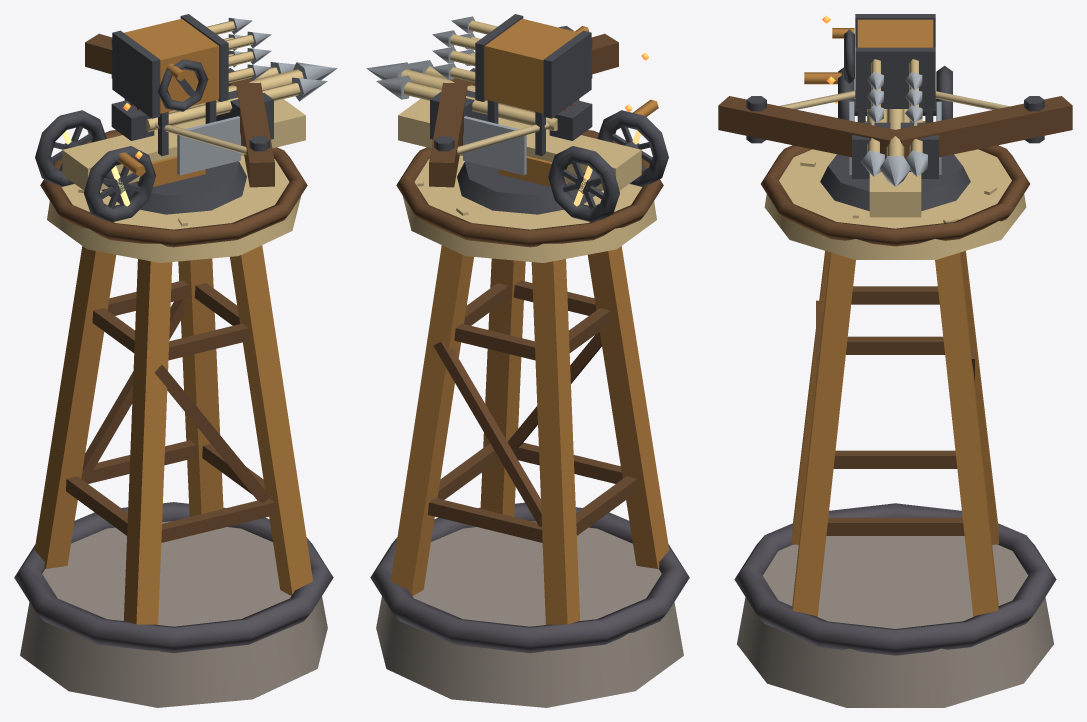
Rendered from tower_ballista_boltStorm.glb.
The picture shows the model from 3 angles, left to right: view 1: azimuth 30°, elevation 25°; view 2: azimuth 150°, elevation 25°; view 3: azimuth 270°, elevation 25°; orthographic projection.
Parts seen in each view (by area): view 1: base, leg_wn, base_rim, leg_en, leg_ws, deck, leg_es, deck_rim, magazine, stock, turret_ring, magazine_band_b (+23 smaller); view 2: base, leg_ws, base_rim, leg_es, leg_wn, deck, leg_en, deck_rim, magazine, stock, turret_ring, brace_b (+22 smaller); view 3: base, base_rim, deck, leg_en, leg_es, deck_rim, bow_arm_l, bow_arm_r, magazine_band_f, turret_ring, ring_e_0.21, ring_w_0.21 (+13 smaller).
Part boxes in pixels (left/top/right/bottom): base: left=20, top=521, right=327, bottom=707; leg_wn: left=123, top=259, right=172, bottom=624; base_rim: left=14, top=502, right=333, bottom=653; leg_en: left=230, top=245, right=312, bottom=595; leg_ws: left=34, top=246, right=116, bottom=568; deck: left=47, top=155, right=300, bottom=262; leg_es: left=178, top=258, right=223, bottom=516; deck_rim: left=40, top=130, right=307, bottom=247; magazine: left=124, top=18, right=219, bottom=113; stock: left=62, top=99, right=305, bottom=190; turret_ring: left=101, top=161, right=246, bottom=214; magazine_band_b: left=112, top=30, right=160, bottom=118; base: left=376, top=521, right=683, bottom=707; leg_ws: left=531, top=259, right=580, bottom=624; base_rim: left=370, top=502, right=689, bottom=653; leg_es: left=391, top=245, right=473, bottom=595; leg_wn: left=587, top=246, right=669, bottom=568; deck: left=403, top=155, right=656, bottom=262; leg_en: left=480, top=258, right=525, bottom=516; deck_rim: left=396, top=130, right=663, bottom=247; magazine: left=484, top=18, right=579, bottom=113; stock: left=398, top=98, right=641, bottom=190; turret_ring: left=457, top=161, right=602, bottom=214; brace_b: left=433, top=340, right=541, bottom=526; base: left=737, top=536, right=1053, bottom=707; base_rim: left=734, top=503, right=1056, bottom=655; deck: left=764, top=149, right=1026, bottom=259; leg_en: left=792, top=252, right=855, bottom=616; leg_es: left=935, top=252, right=998, bottom=616; deck_rim: left=761, top=145, right=1029, bottom=246; bow_arm_l: left=718, top=96, right=899, bottom=159; bow_arm_r: left=892, top=96, right=1072, bottom=158; magazine_band_f: left=855, top=47, right=935, bottom=108; turret_ring: left=820, top=154, right=970, bottom=211; ring_e_0.21: left=826, top=517, right=964, bottom=535; ring_w_0.21: left=833, top=450, right=957, bottom=468.
Bounding box in the file's own units: 0.4435 × 0.848 × 0.4469.
